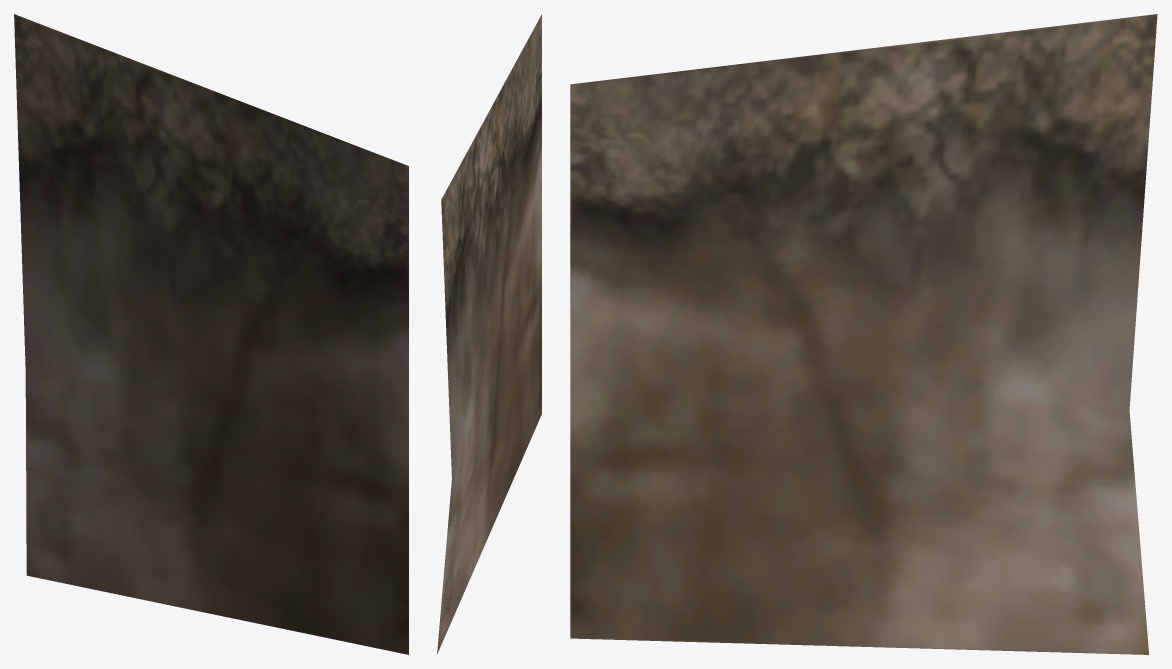
File: OVERHILL_A_01_OBJECT61.fbx
The picture shows the model from 3 angles, left to right: view 1: azimuth 30°, elevation 25°; view 2: azimuth 150°, elevation 25°; view 3: azimuth 270°, elevation 25°; orthographic projection. The views are drawn at different scales.
Parts seen in each view (by area): view 1: OVERHILL_A_01_OBJECT61; view 2: OVERHILL_A_01_OBJECT61; view 3: OVERHILL_A_01_OBJECT61.
Part boxes in pixels (<box>): OVERHILL_A_01_OBJECT61: <box>14,14,408,654</box>; OVERHILL_A_01_OBJECT61: <box>437,14,541,654</box>; OVERHILL_A_01_OBJECT61: <box>570,14,1157,654</box>.
Size of the model in its own units: 3243 by 12822 by 10646.
1 material, 1 textured.
